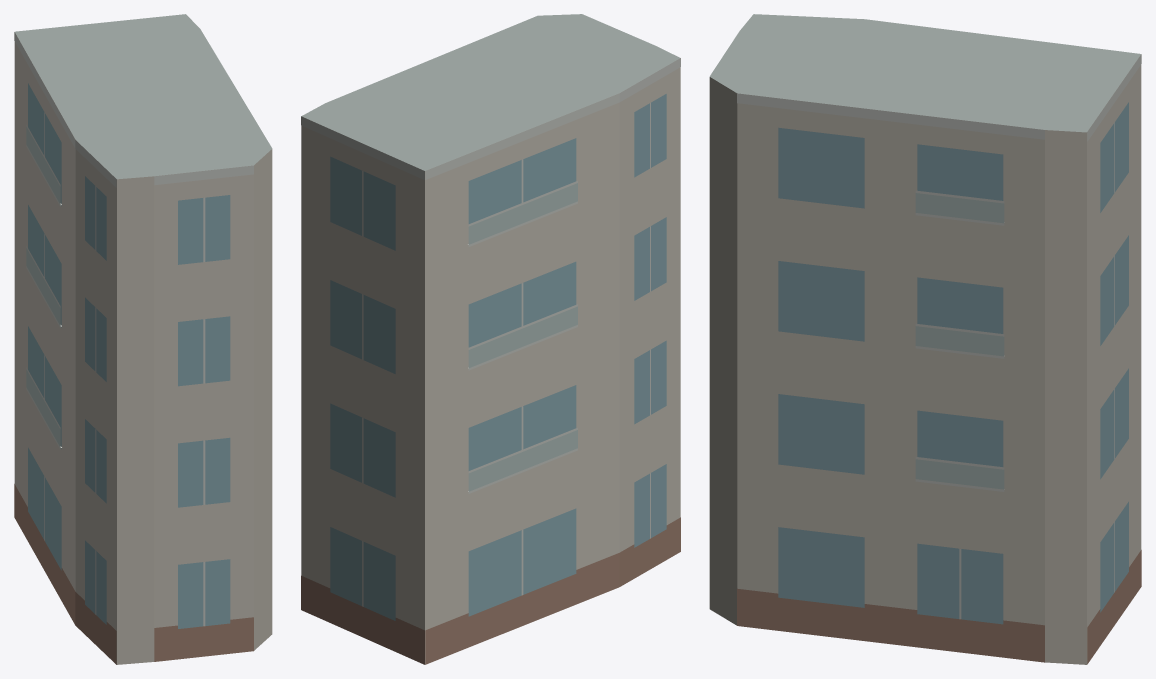
File: survey-upis-32972193.glb
3 renders of one model, left to right at view 1: azimuth 30°, elevation 25°; view 2: azimuth 150°, elevation 25°; view 3: azimuth 270°, elevation 25°, orthographic. The views are drawn at different scales.
Parts seen in each view (by area): view 1: survey-upis-32972193.tmp; view 2: survey-upis-32972193.tmp; view 3: survey-upis-32972193.tmp.
Part boxes in pixels (x1,y1,x2,y2): survey-upis-32972193.tmp: (14,14,272,664); survey-upis-32972193.tmp: (301,14,680,664); survey-upis-32972193.tmp: (709,14,1141,664).
Size of the model in its own units: 6.3 by 13.2 by 9.72.
